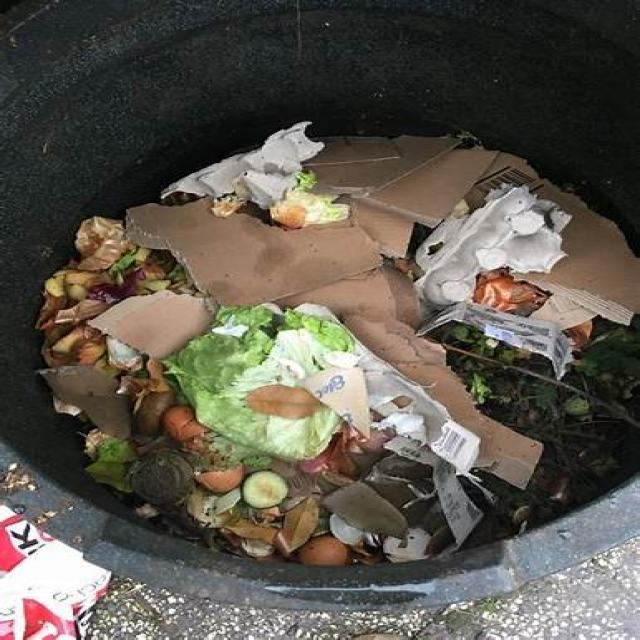Cardboard: (280, 268, 543, 487), (127, 199, 381, 304), (516, 180, 639, 324), (363, 149, 497, 226)
Garbage: (2, 1, 638, 640)
